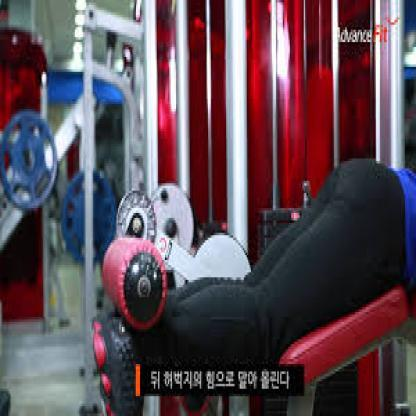reg curl machine: (93, 144, 416, 411)
